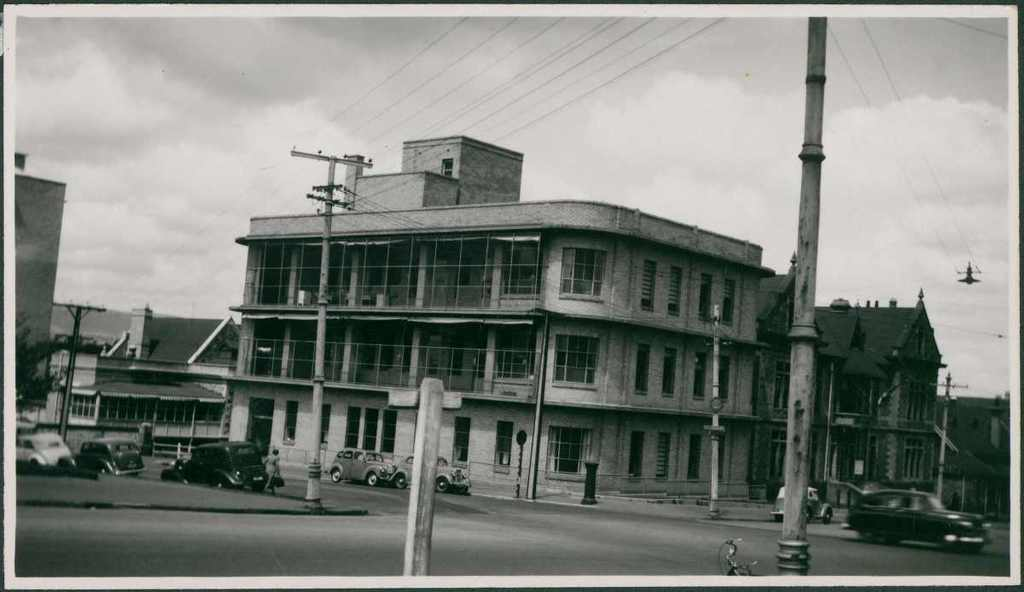Car: (841, 490, 993, 555), (158, 440, 281, 494), (330, 447, 407, 486), (769, 483, 834, 527), (72, 435, 144, 474), (7, 432, 80, 469), (413, 454, 467, 495)
